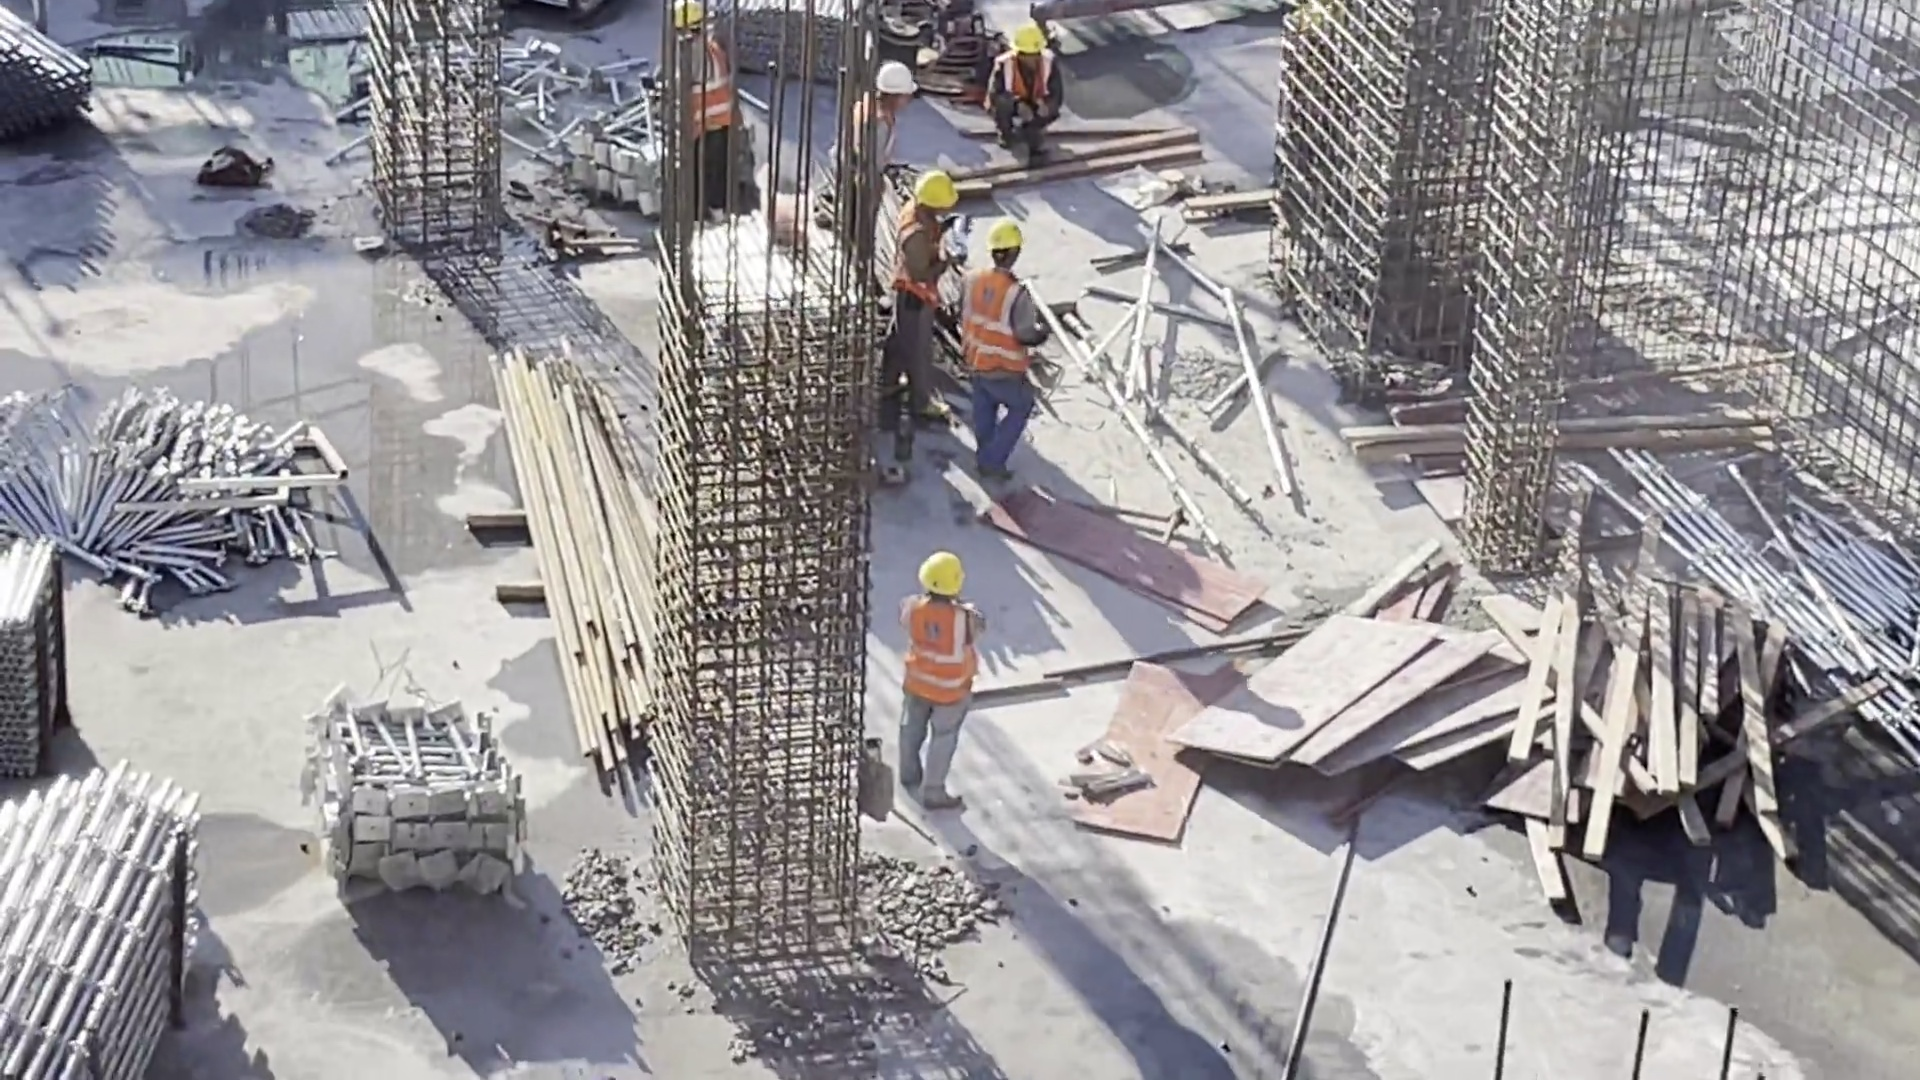helmet: (910, 550, 970, 595), (915, 168, 970, 206), (997, 17, 1056, 52), (989, 223, 1036, 258), (875, 65, 925, 94), (667, 1, 730, 13)
person: (893, 549, 989, 813), (959, 222, 1038, 499), (826, 57, 903, 265), (884, 172, 951, 409), (688, 1, 750, 217), (993, 26, 1066, 158)
vest: (958, 274, 1033, 386), (684, 39, 745, 130), (893, 216, 954, 290), (907, 600, 960, 676), (845, 95, 889, 183), (1000, 52, 1052, 115)
